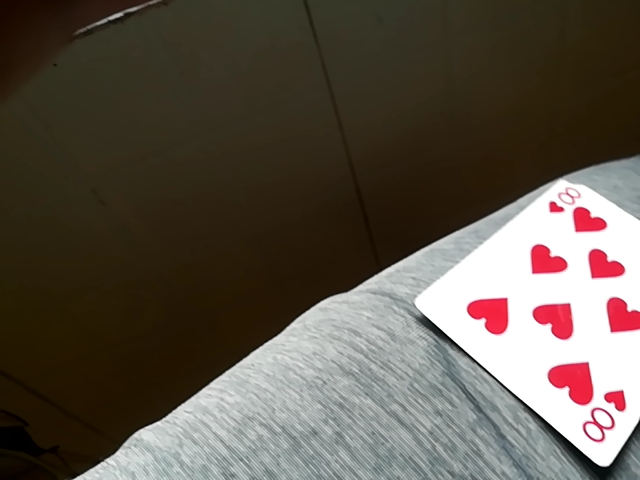hx 8: (413, 171, 638, 467)
